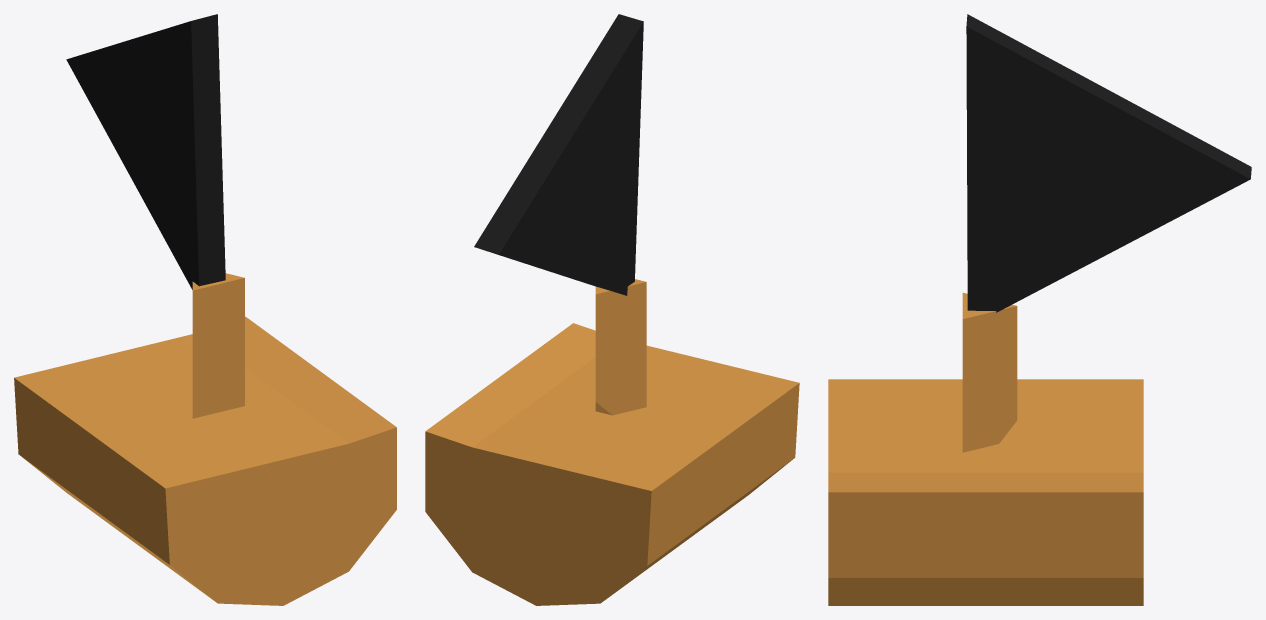
Rendered from boat3.fbx.
3 views of the same model, side by side, from view 1: azimuth 30°, elevation 25°; view 2: azimuth 150°, elevation 25°; view 3: azimuth 270°, elevation 25° (orthographic). The views are drawn at different scales.
Parts seen in each view (by area): view 1: mesh_1812785844, group_410817031, mesh_419589608; view 2: mesh_1812785844, group_410817031, mesh_419589608; view 3: mesh_1812785844, group_410817031, mesh_419589608.
Part boxes in pixels (bbox=[...]): mesh_1812785844: bbox=[14, 316, 396, 605]; group_410817031: bbox=[66, 14, 225, 289]; mesh_419589608: bbox=[192, 273, 244, 418]; mesh_1812785844: bbox=[425, 323, 799, 605]; group_410817031: bbox=[474, 14, 643, 295]; mesh_419589608: bbox=[595, 279, 646, 415]; mesh_1812785844: bbox=[828, 379, 1143, 605]; group_410817031: bbox=[966, 14, 1251, 312]; mesh_419589608: bbox=[962, 292, 1017, 452].
Size of the model in its own units: 4.42 by 9.9 by 6.72.
